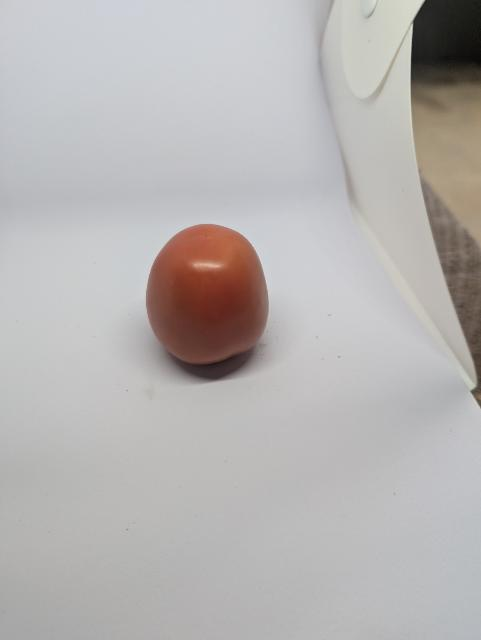red: (128, 212, 293, 378)
